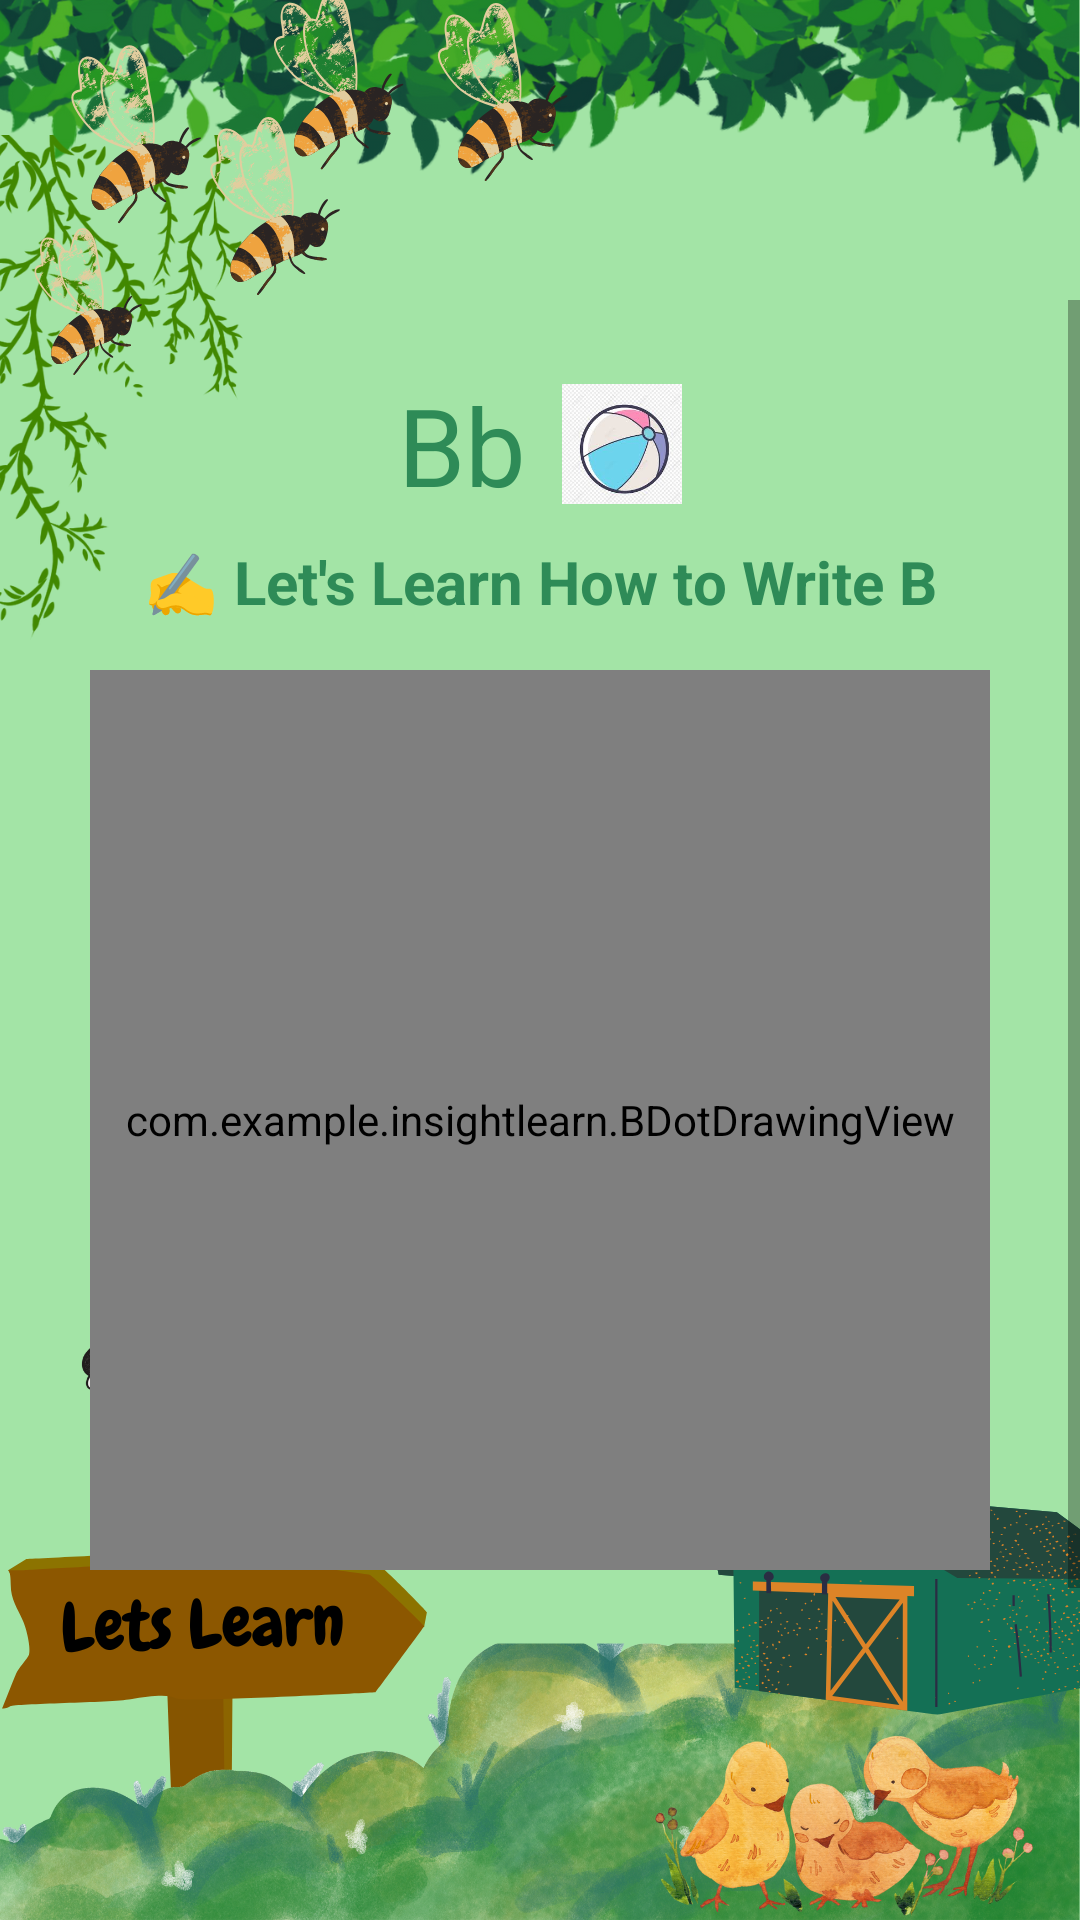

Point at icon controls on the screen. Image size 1080px x 1920px, points as point (x, y).
Ball: point (622, 444)
